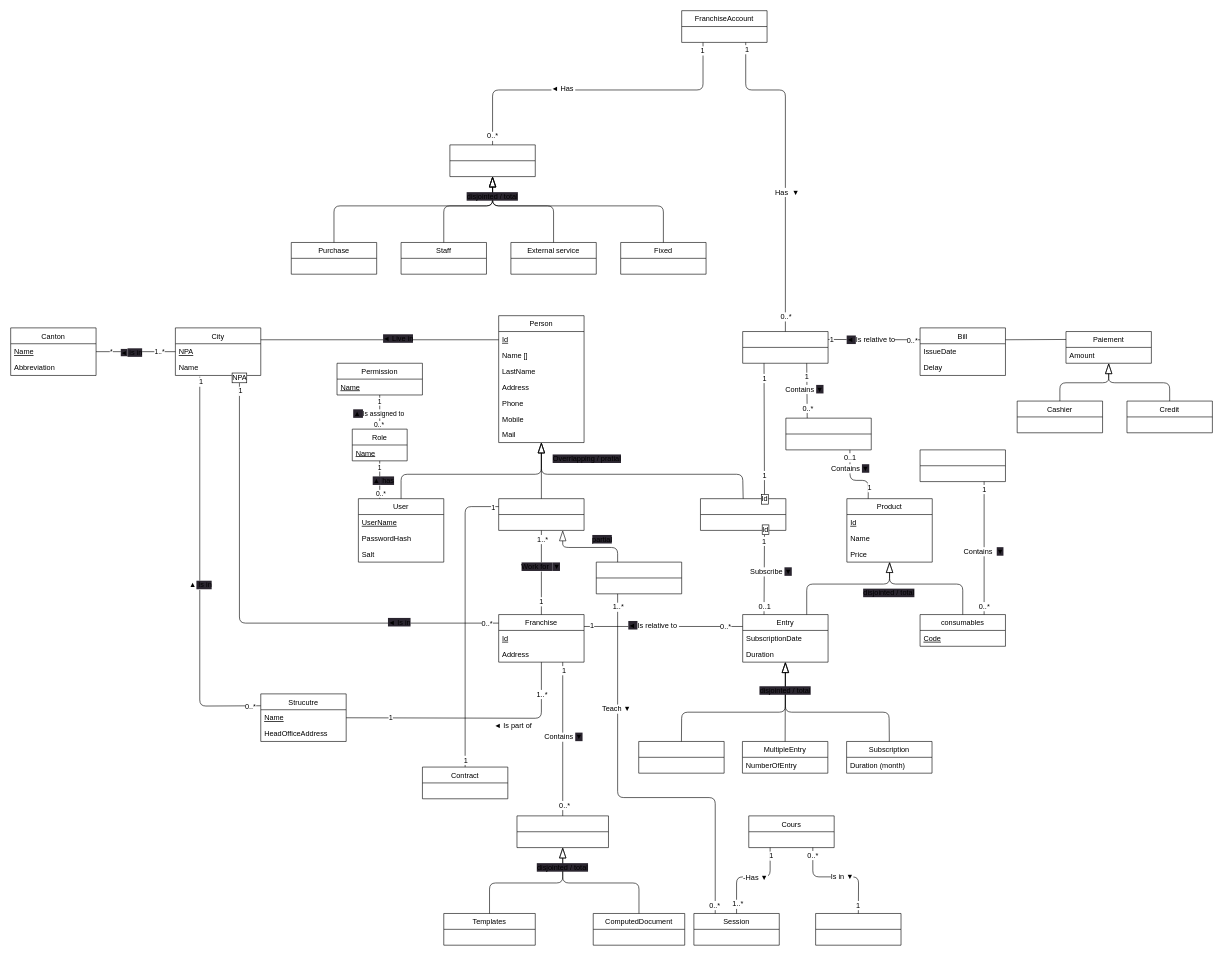
This 1223x956 diagram has some shape labels left out. The centre of each missing label's shape, as x and y in pixels:
"Charges" goes at point 492,160.
"Coach" goes at point 639,578.
"Consumption" goes at point 828,434.
"Documents" goes at point 562,831.
"Employee" goes at point 541,514.
"Member" goes at point 743,514.
"MemeberAccount" goes at point 785,347.
"Room" goes at point 858,929.
"Stock" goes at point 962,465.
"UniqueEntry" goes at point 681,757.
